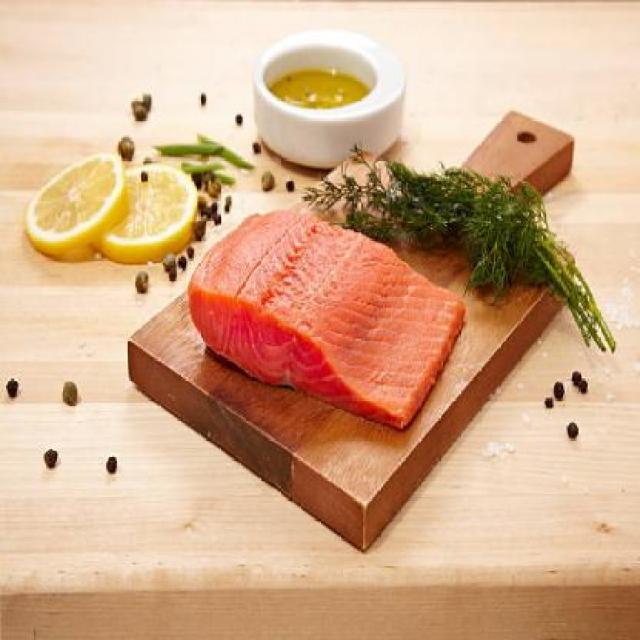salmon: (182, 183, 472, 436)
